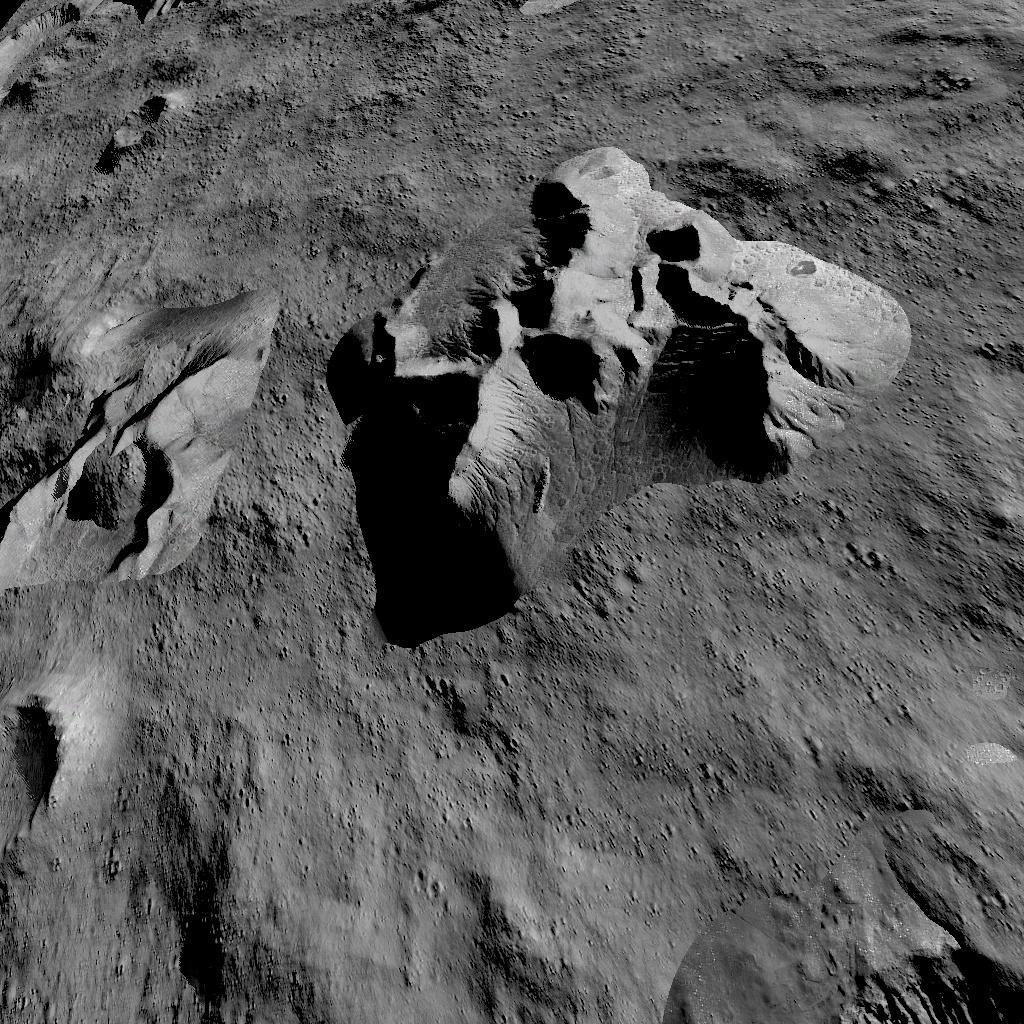Boulders: (318, 163, 906, 650), (468, 0, 698, 35), (103, 0, 246, 40)
Crater: (0, 348, 223, 598), (838, 934, 1024, 1024), (0, 663, 72, 850), (0, 0, 93, 104), (98, 98, 196, 179)
Plan surface: (107, 680, 796, 1014), (829, 674, 1024, 924), (736, 0, 1024, 128), (0, 204, 252, 310), (263, 2, 445, 140)
